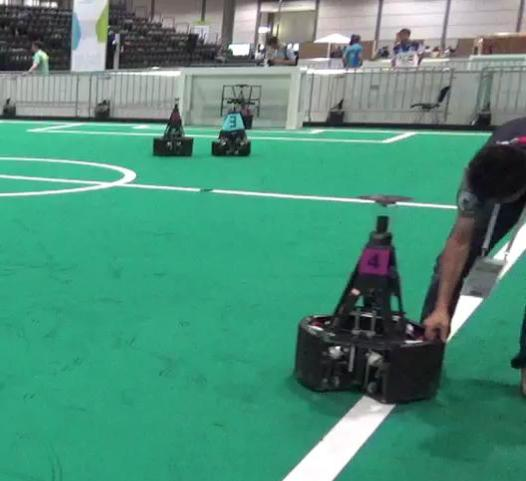robot: (280, 177, 452, 409), (146, 93, 199, 158), (206, 93, 253, 161)
